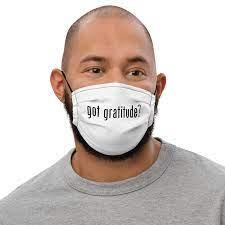mask: (71, 80, 158, 163)
